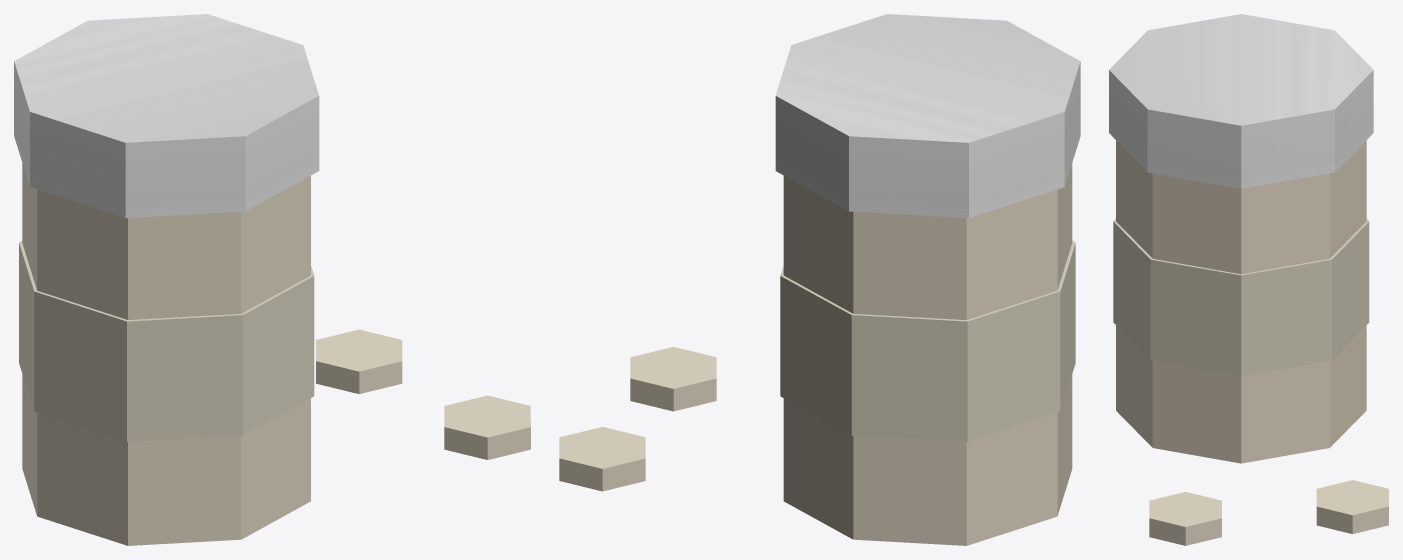
File: drug_pills.obj
3 renders of one model, left to right at view 1: azimuth 30°, elevation 25°; view 2: azimuth 150°, elevation 25°; view 3: azimuth 270°, elevation 25°, orthographic. The views are drawn at different scales.
Parts seen in each view (by area): view 1: drug_pills; view 2: drug_pills; view 3: drug_pills.
Boxes of the visible parts, <box> form: drug_pills: <box>14,14,530,545</box>; drug_pills: <box>559,14,1080,545</box>; drug_pills: <box>1109,14,1388,545</box>.
Bounding box in the file's own units: 0.325 × 0.27 × 0.201.
